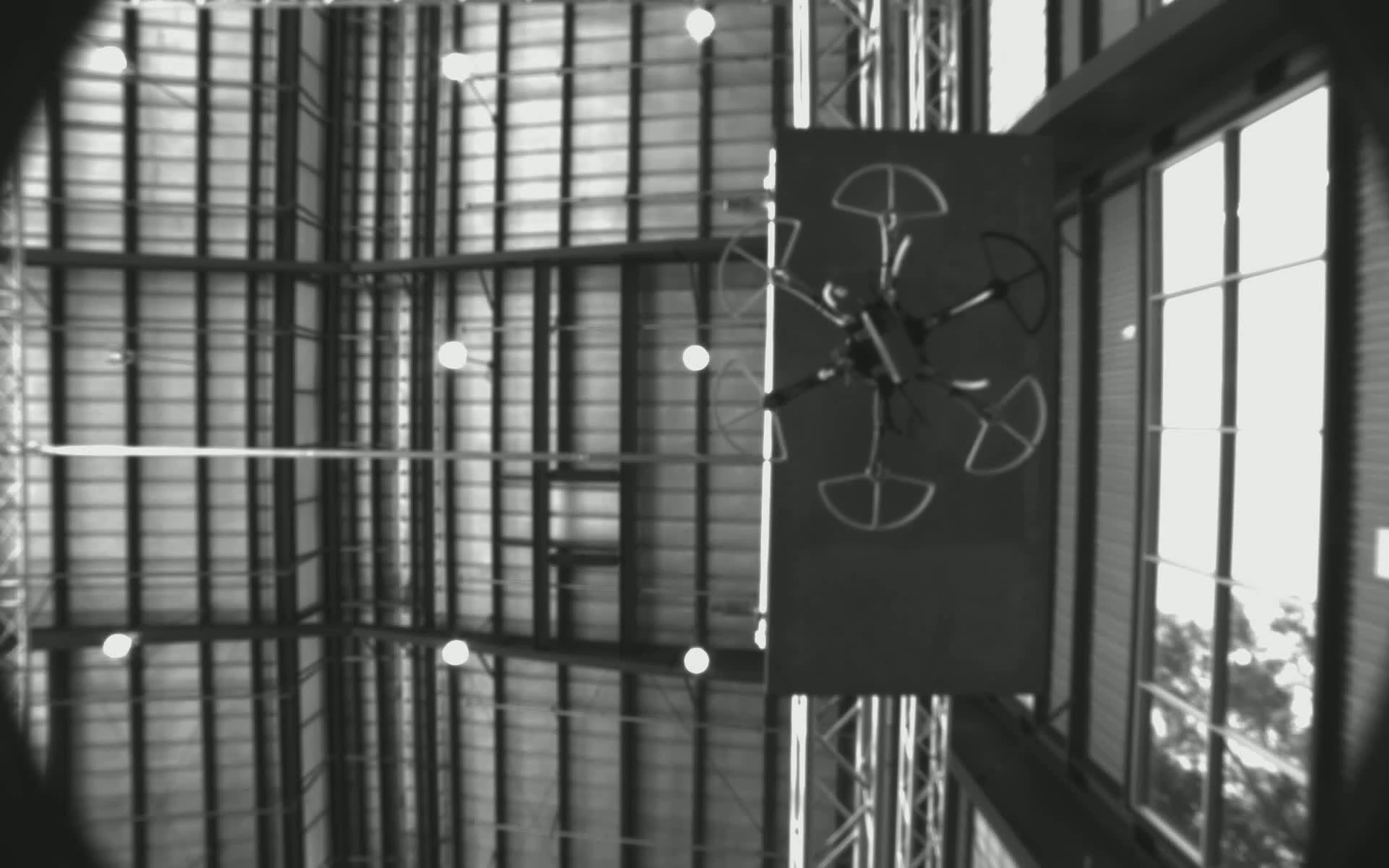drone: (716, 158, 1056, 537)
